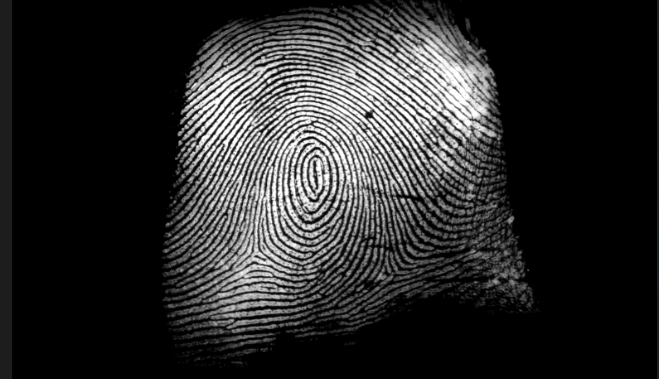deltas: (369, 240, 416, 288), (228, 236, 277, 275)
nucleo: (301, 146, 330, 194)
